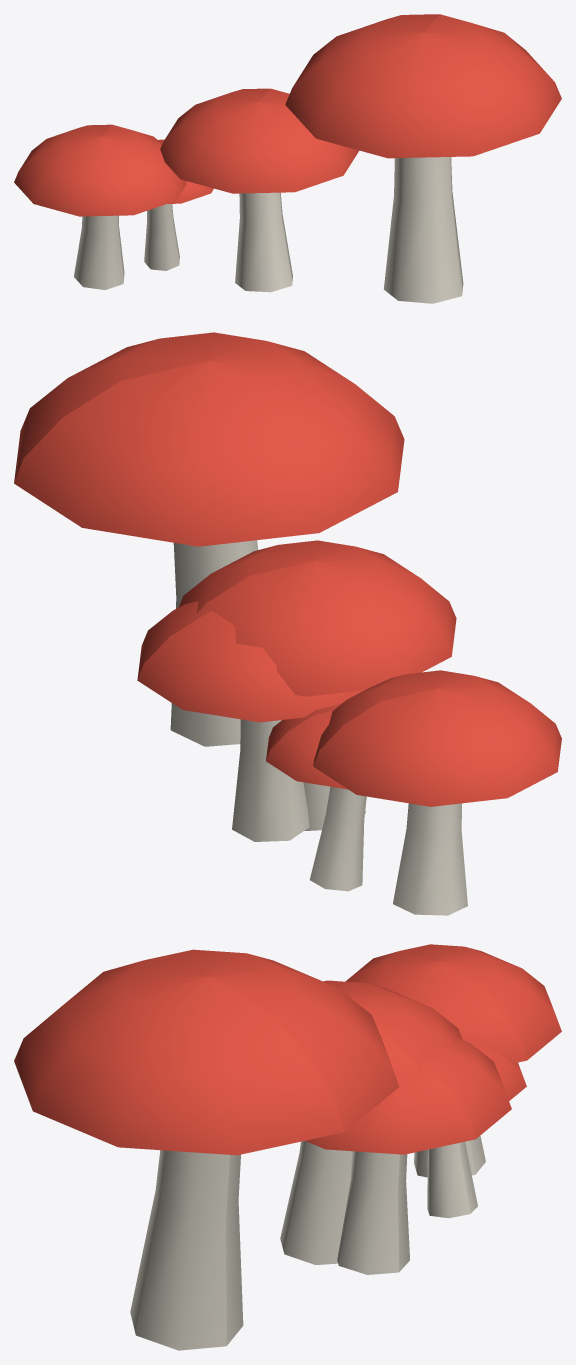
Rendered from mushrooms-red.glb.
3 views of the same model, one above another, from view 1: azimuth 30°, elevation 25°; view 2: azimuth 150°, elevation 25°; view 3: azimuth 270°, elevation 25° (orthographic). The views are drawn at different scales.
Visible parts, largest first — view 1: mushrooms-red-cap, mushrooms-red-stem; view 2: mushrooms-red-cap, mushrooms-red-stem; view 3: mushrooms-red-cap, mushrooms-red-stem.
Part boxes in pixels (bbox=[...]): mushrooms-red-cap: bbox=[14, 14, 561, 216]; mushrooms-red-stem: bbox=[74, 157, 463, 303]; mushrooms-red-cap: bbox=[14, 332, 561, 806]; mushrooms-red-stem: bbox=[170, 540, 467, 915]; mushrooms-red-cap: bbox=[14, 944, 561, 1155]; mushrooms-red-stem: bbox=[130, 1135, 485, 1350].
Bounding box in the file's own units: 0.3113 × 0.1738 × 0.2422.
